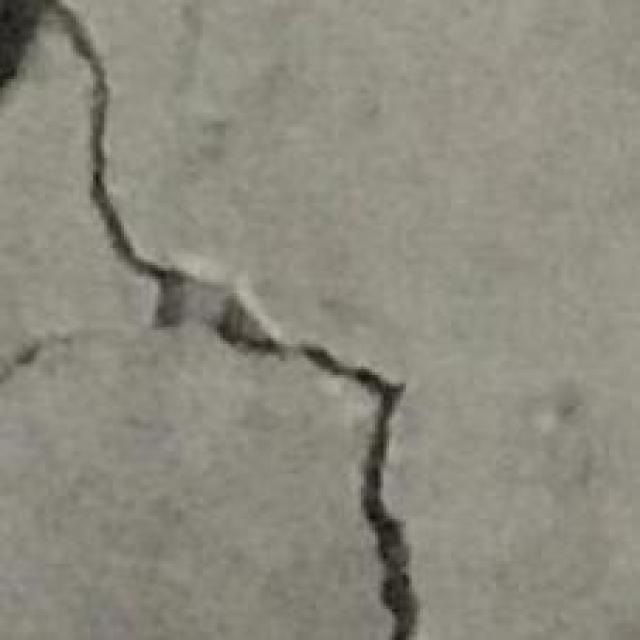Crack: (0, 0, 417, 637)
